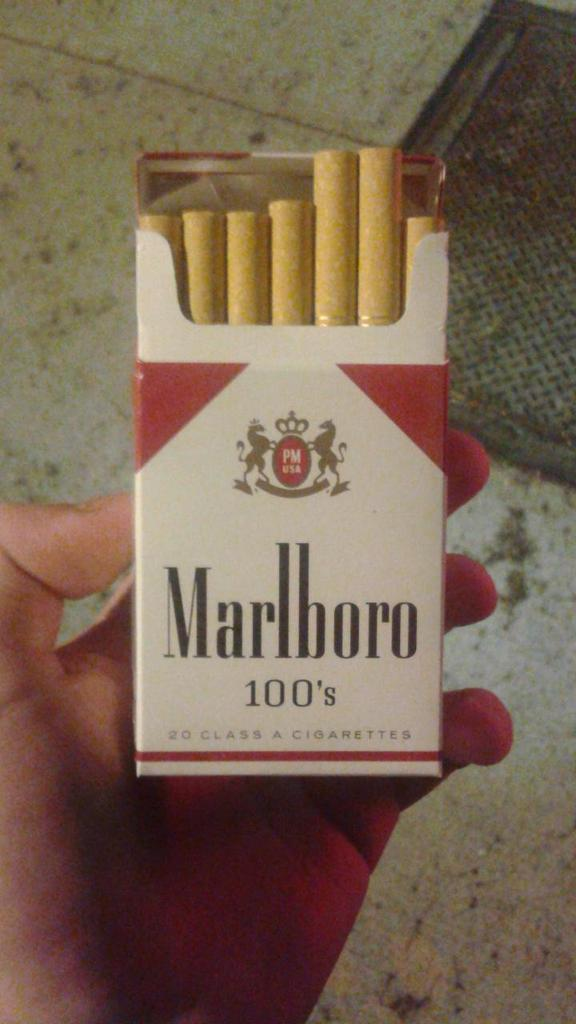marlboro_red: (135, 239, 446, 779)
